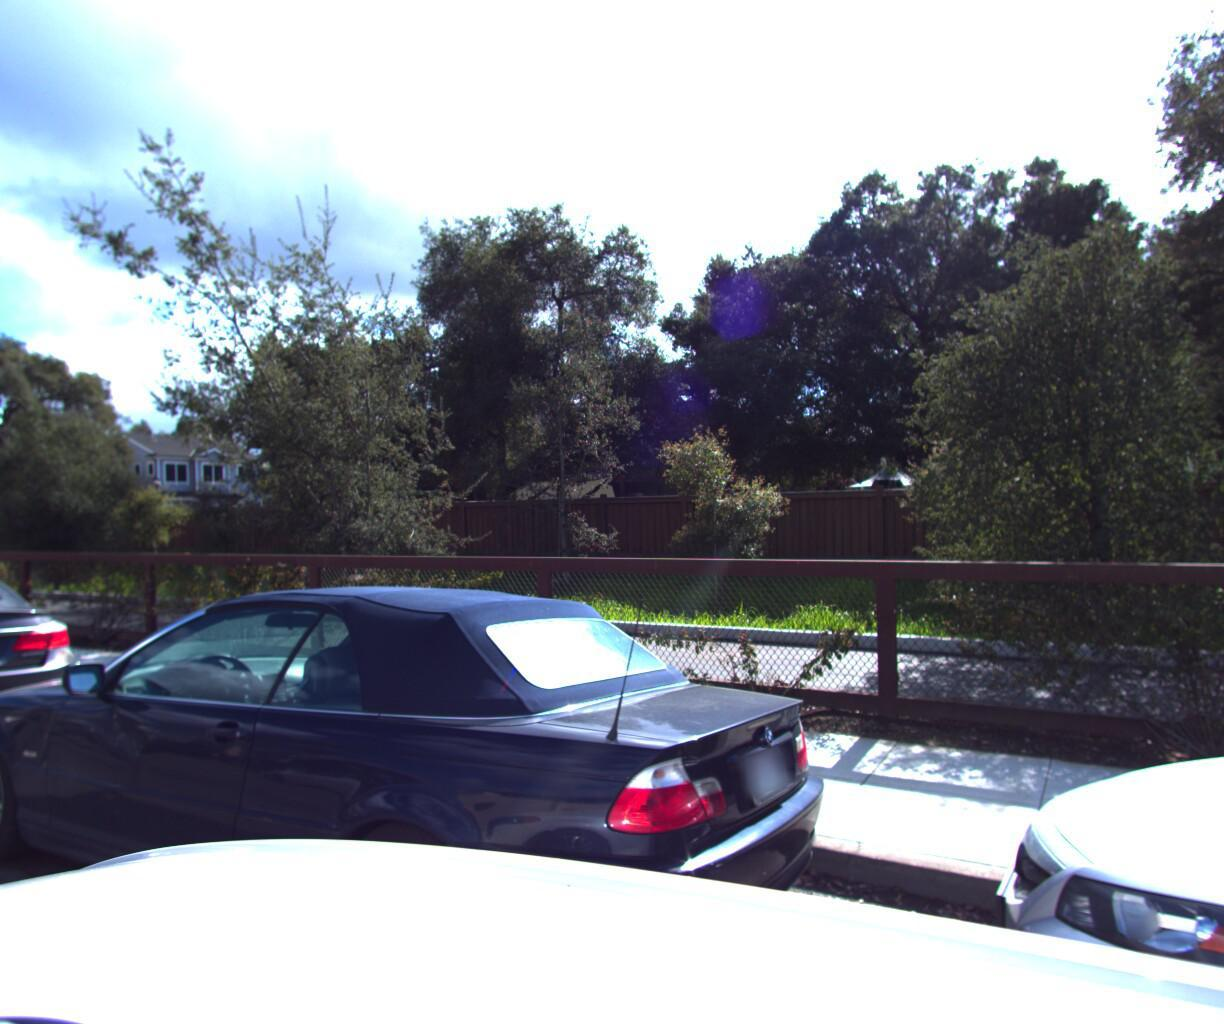car: (0, 551, 846, 1024), (0, 535, 100, 802)
